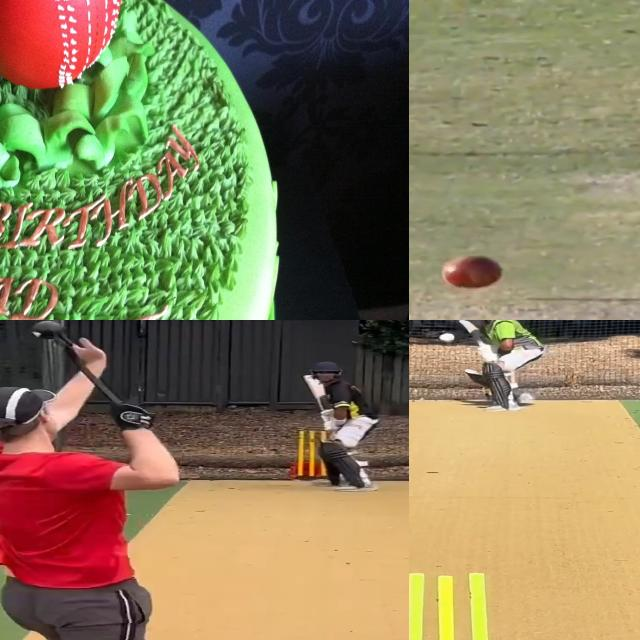Cricket ball: (0, 0, 126, 97), (438, 254, 506, 291), (438, 332, 456, 344)
Stumps: (409, 572, 515, 640), (296, 429, 328, 482)
